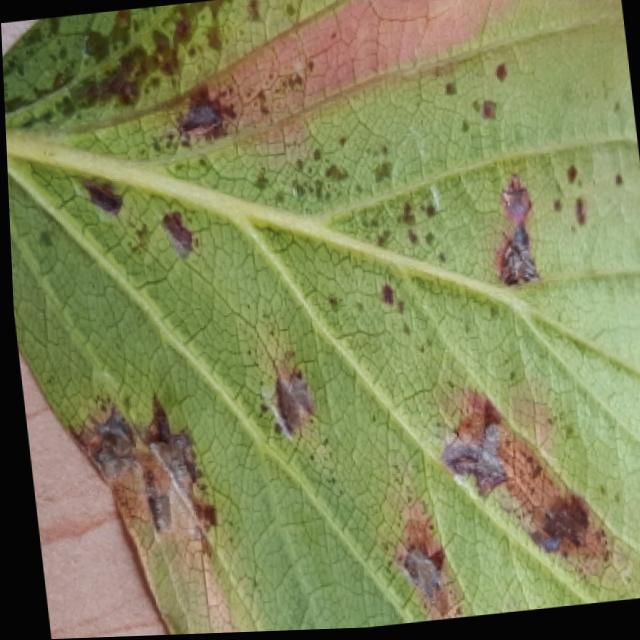Angular Leafspot: (2, 0, 640, 636)
